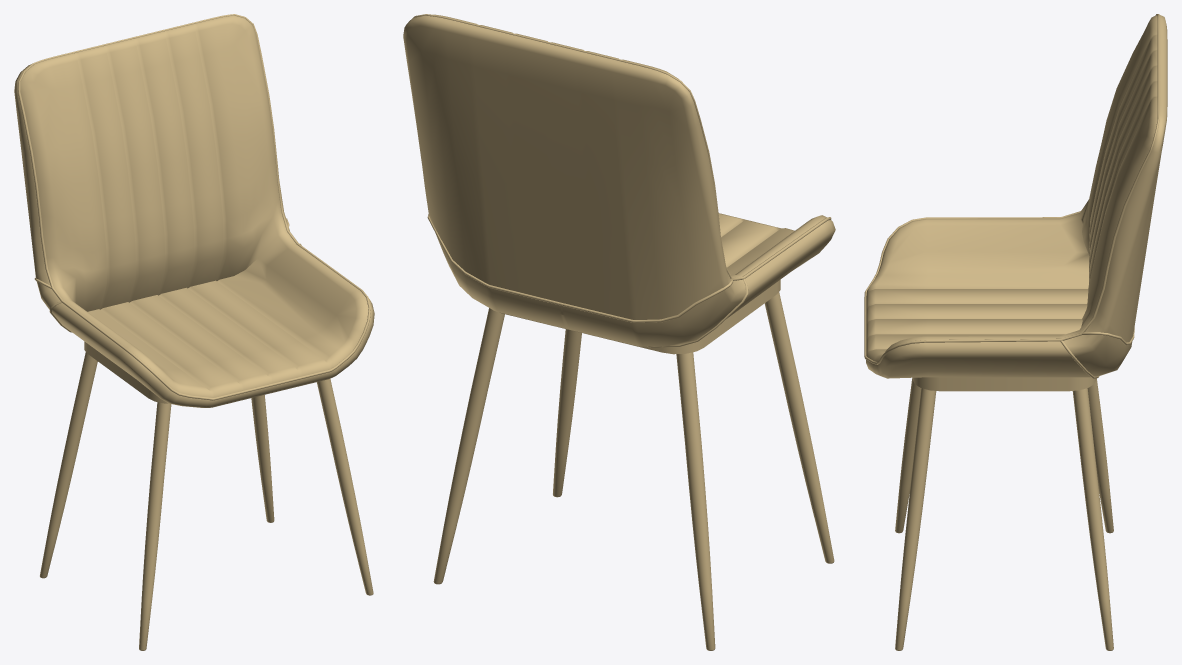
Rendered from Chair.fbx.
The picture shows the model from 3 angles, left to right: view 1: azimuth 30°, elevation 25°; view 2: azimuth 150°, elevation 25°; view 3: azimuth 270°, elevation 25°; orthographic projection. The views are drawn at different scales.
Visible parts, largest first — view 1: Chair; view 2: Chair; view 3: Chair.
Boxes of the visible parts, bbox=[...] form: Chair: bbox=[14, 14, 374, 650]; Chair: bbox=[403, 14, 835, 650]; Chair: bbox=[864, 14, 1167, 650].
Bounding box in the file's own units: 55.18 × 104 × 54.15.
